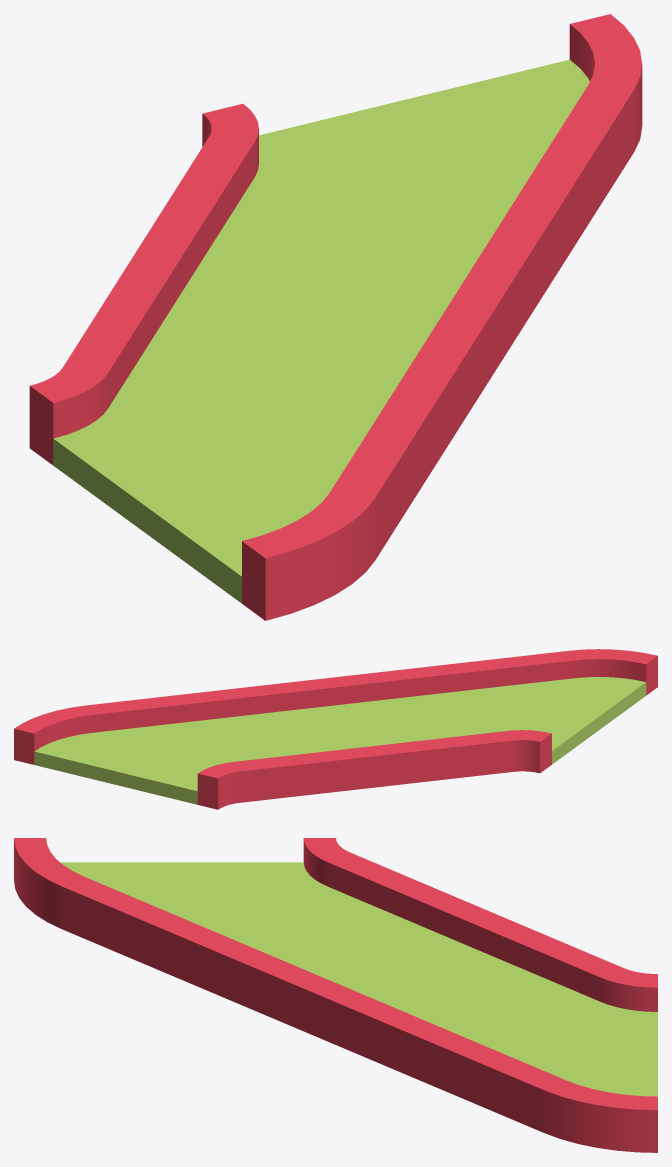
The model's file is skewLargeCorner.fbx.
3 views of the same model, one above another, from view 1: azimuth 30°, elevation 25°; view 2: azimuth 150°, elevation 25°; view 3: azimuth 270°, elevation 25° (orthographic). The views are drawn at different scales.
Visible parts, largest first — view 1: skewLargeCorner; view 2: skewLargeCorner; view 3: skewLargeCorner.
Boxes of the visible parts, x1,y1,x2,y2 form: skewLargeCorner: (29,14,642,620); skewLargeCorner: (14,649,657,809); skewLargeCorner: (14,838,657,1152).
Bounding box in the file's own units: 20 × 1.47 × 20.
